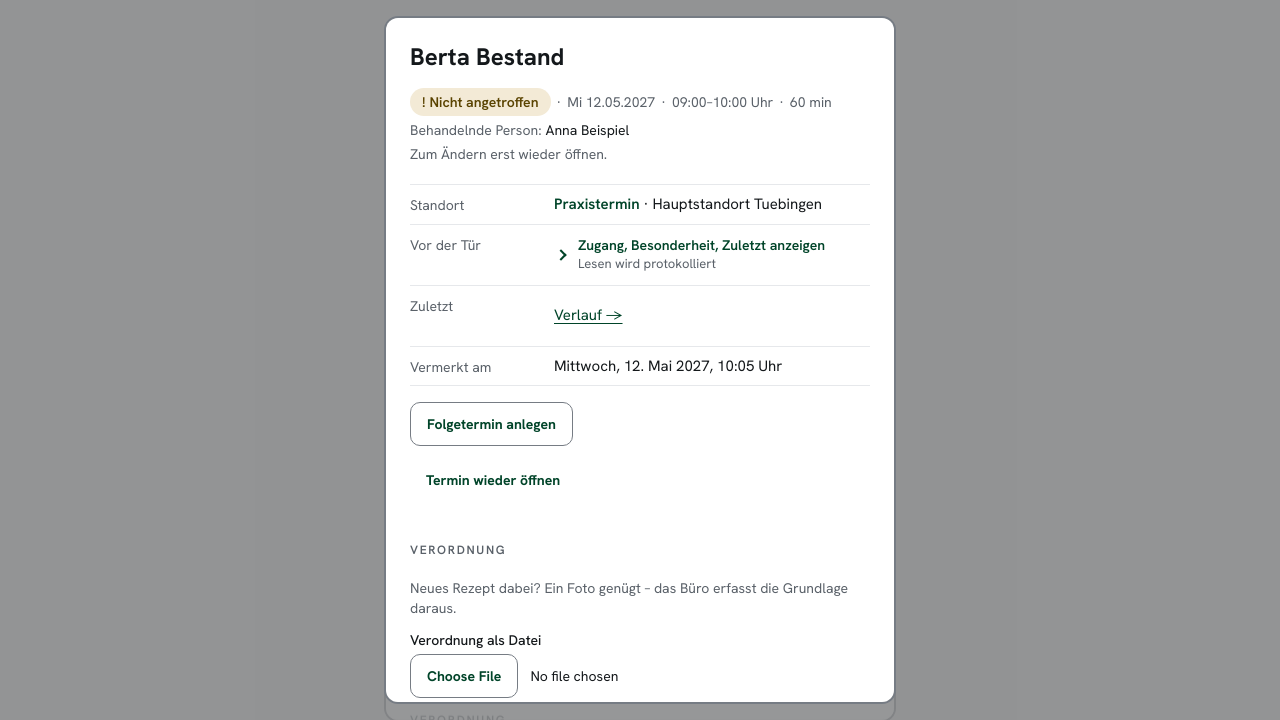
TerminAktionenDialog › CAL-014c: Nicht angetroffen ohne Gebuehrenentscheidung › öffnet einen vermerkten Termin nach einer Rückfrage wieder
The image size is (1280, 720).
Click the 1st button "Termin wieder öffnen".
click(493, 480)  # box [410, 458, 576, 502]
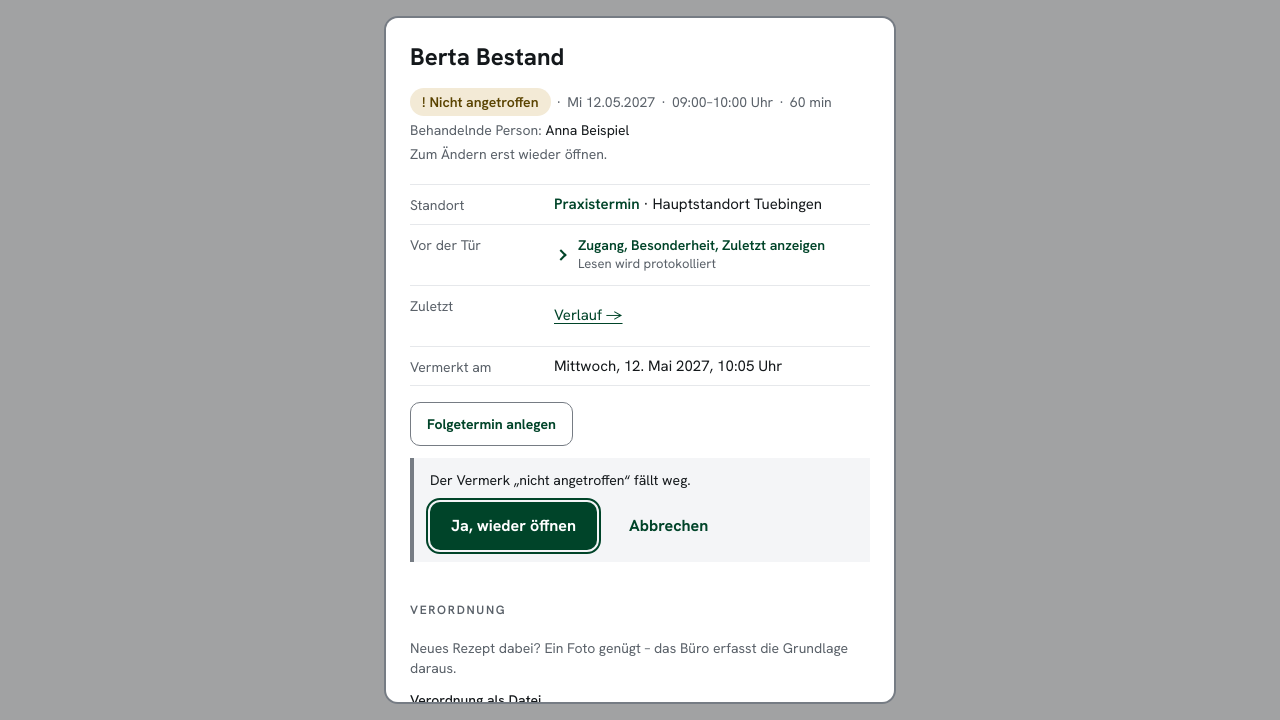
Check: the text "Der Vermerk „nicht angetroffen“ fällt weg." is shown, box [430, 471, 691, 489]
Click the button "Ja, wieder öffnen".
click(514, 526)  # box [430, 502, 597, 550]
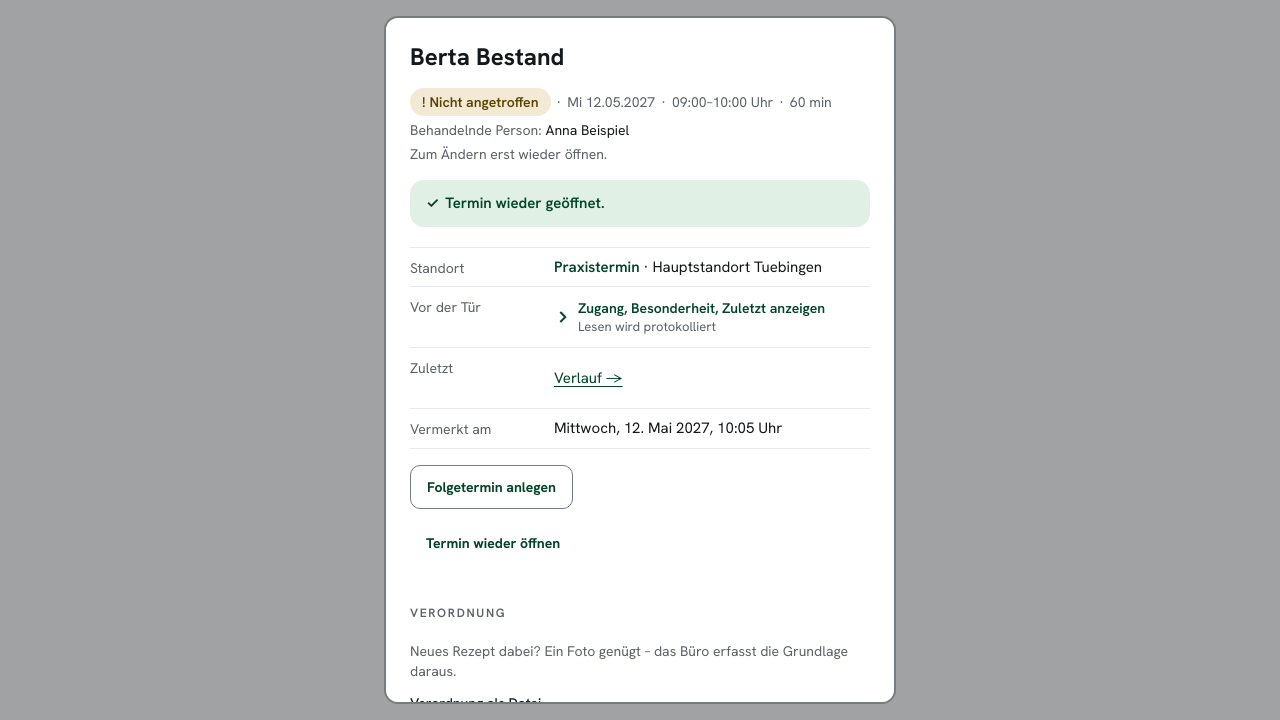
Check: the text "Termin wieder geöffnet." is shown, box [445, 193, 605, 213]
